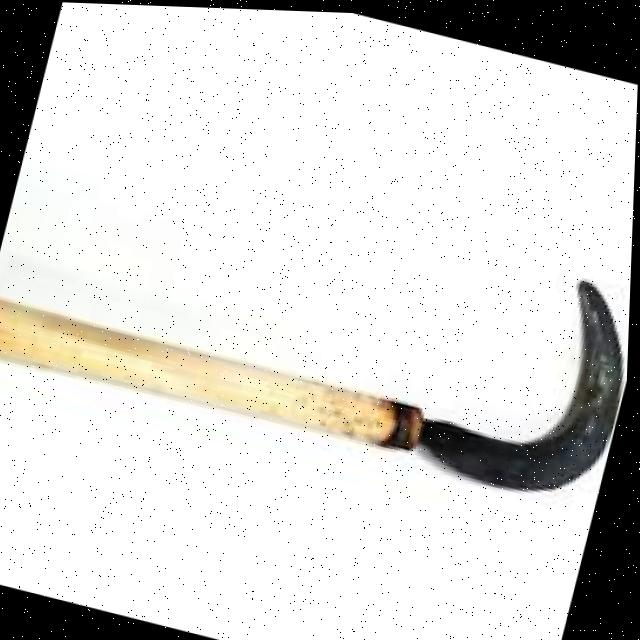sickle: (0, 111, 637, 542)
